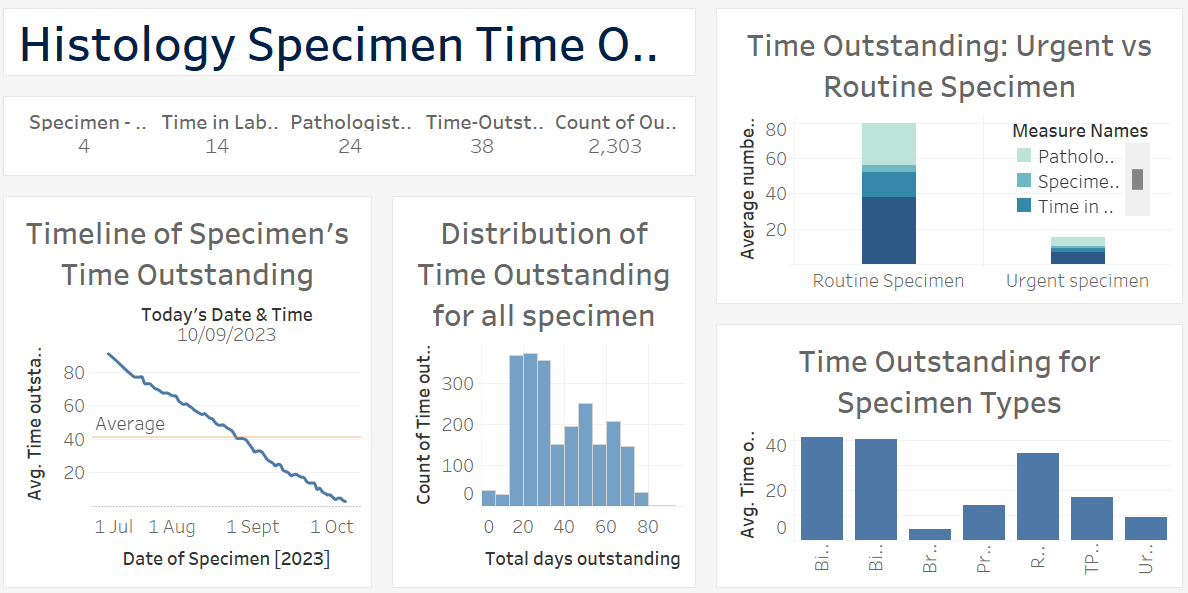

This screenshot's page, from the dashboard's own definition file:
{"tool":"tableau","page":{"name":"Hist Time Outstanding","canvas":[1200,600],"ordinal":0},"visuals":[{"type":"text","box":[0,0,727,88]},{"type":"worksheet","title":"Comparison of Urgent and Routine Specimens time outstanding","mark":"Automatic","box":[727,0,473,316]},{"type":"filter","title":"Time line outstanding","param":"[federated.17qemkw18m5zrk14kdkls1gmn4ue].[none:Total Time (days) (bin):qk]","box":[1032,8,160,70]},{"type":"legend","title":"Comparison of Urgent and Routine Specimens time outstanding","param":"[federated.17qemkw18m5zrk14kdkls1gmn4ue].[:Measure Names]","box":[1047,82,140,99]},{"type":"worksheet","title":"KPIs","mark":"Text","box":[21,109,685,48]},{"type":"worksheet","title":"Time line outstanding","mark":"Line","rows":["Total Time (days)"],"cols":["Today's Date & Time","Date of Specimen"],"box":[0,188,389,412]},{"type":"worksheet","title":"Distribution of time outstanding for all specimen","mark":"Automatic","rows":["Total Time (days)"],"cols":["Total Time (days) (bin)"],"box":[389,188,338,412]},{"type":"worksheet","title":"Time outstanding Specimen Types","mark":"Bar","rows":["Total Time (days)"],"cols":["Material Desc"],"box":[727,316,473,284]}]}

Visuals, with their boxes in screenshot pixels (x1, y1, x2, y2), scaled from the page's 1200x600 canvas onto the 1188x593 screenshot:
text: (left=0, top=0, right=720, bottom=87)
"Comparison of Urgent and Routine Specimens time outstanding" worksheet: (left=720, top=0, right=1187, bottom=312)
"Time line outstanding" filter: (left=1022, top=8, right=1180, bottom=77)
"Comparison of Urgent and Routine Specimens time outstanding" legend: (left=1037, top=81, right=1175, bottom=179)
"KPIs" worksheet (Text marks): (left=21, top=108, right=699, bottom=155)
"Time line outstanding" worksheet (Line marks): (left=0, top=186, right=385, bottom=592)
"Distribution of time outstanding for all specimen" worksheet: (left=385, top=186, right=720, bottom=592)
"Time outstanding Specimen Types" worksheet (Bar marks): (left=720, top=312, right=1187, bottom=592)
